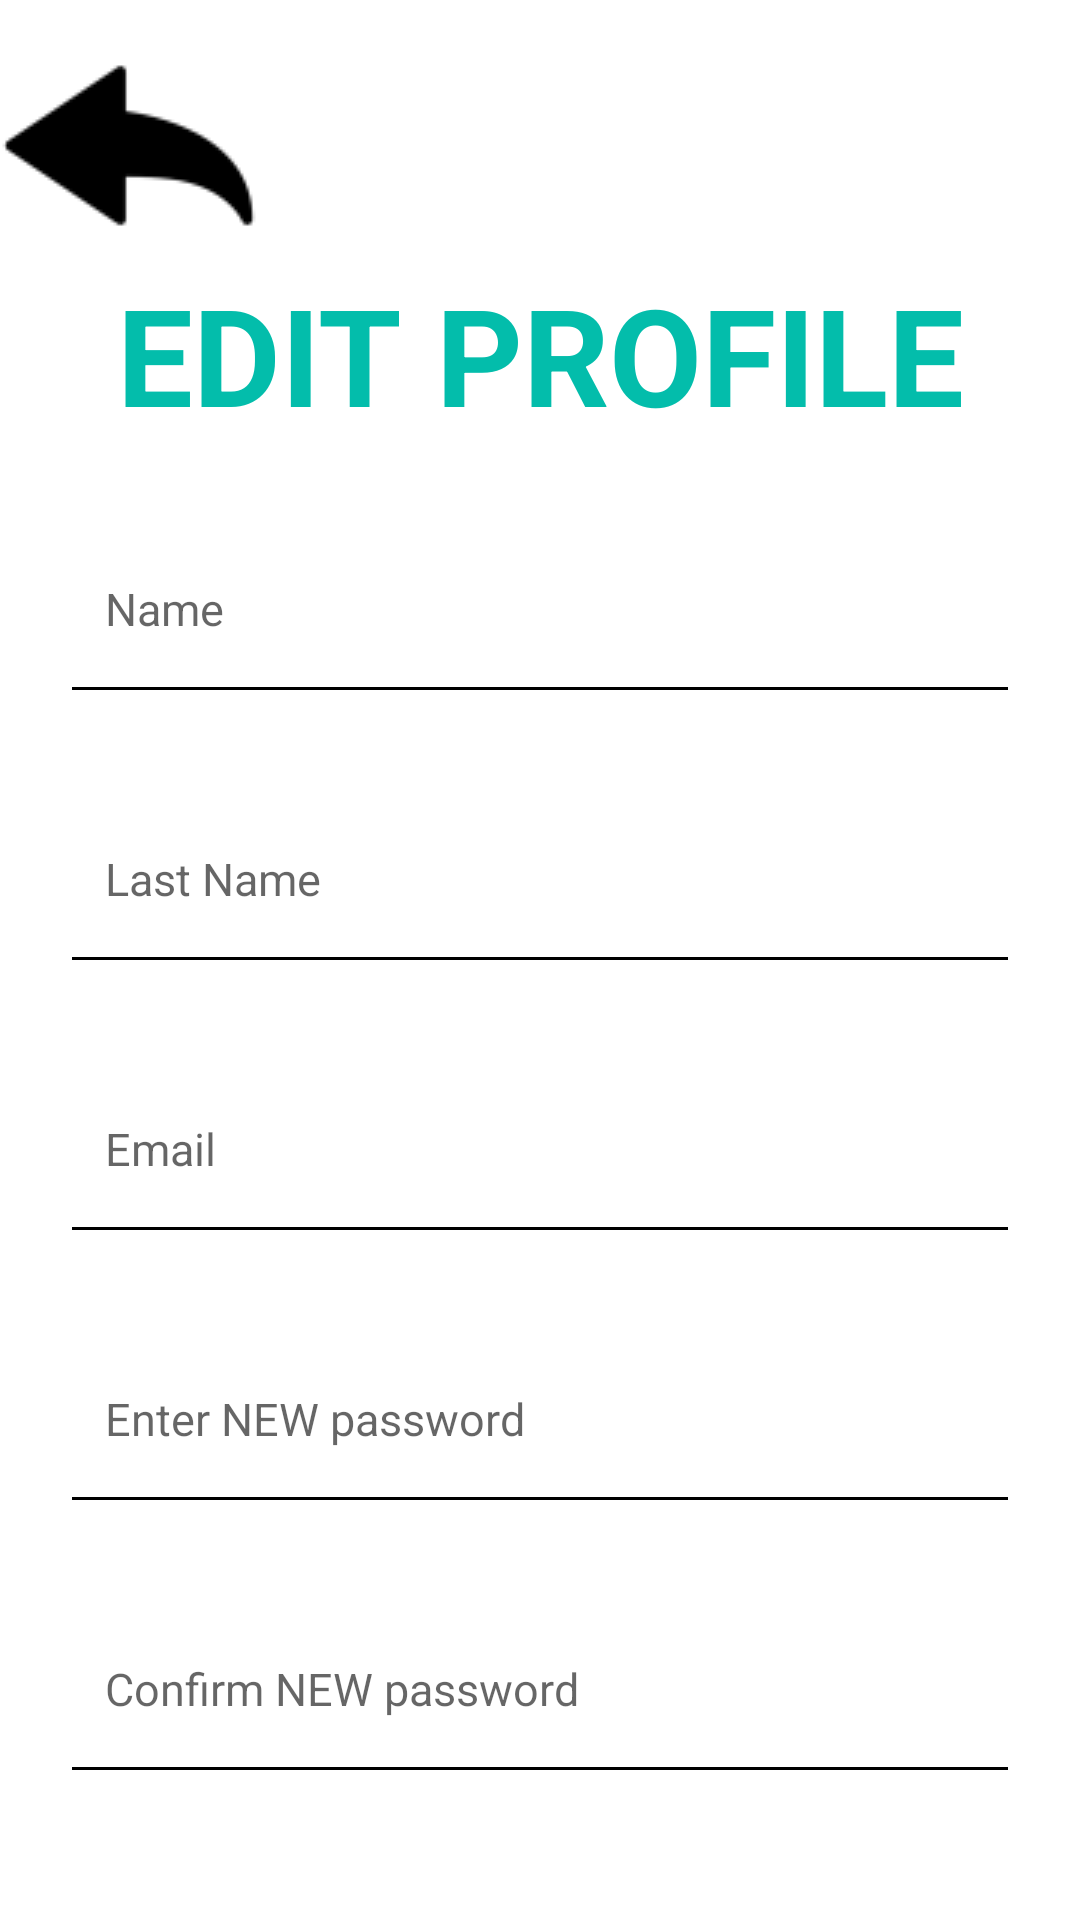

Where icons sit on this 1080w x 1920h app screen, as (x1, y1, x2, y2):
back arrow image: (4, 65, 255, 226)
